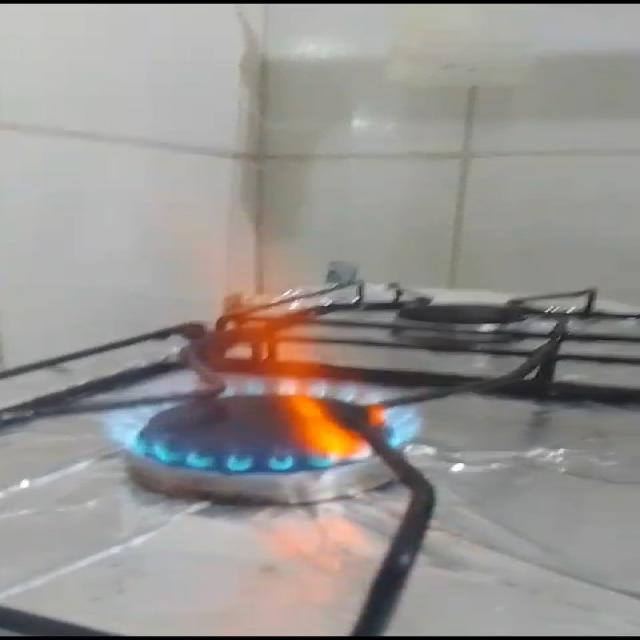fogo-ypXI: (97, 196, 428, 474)
